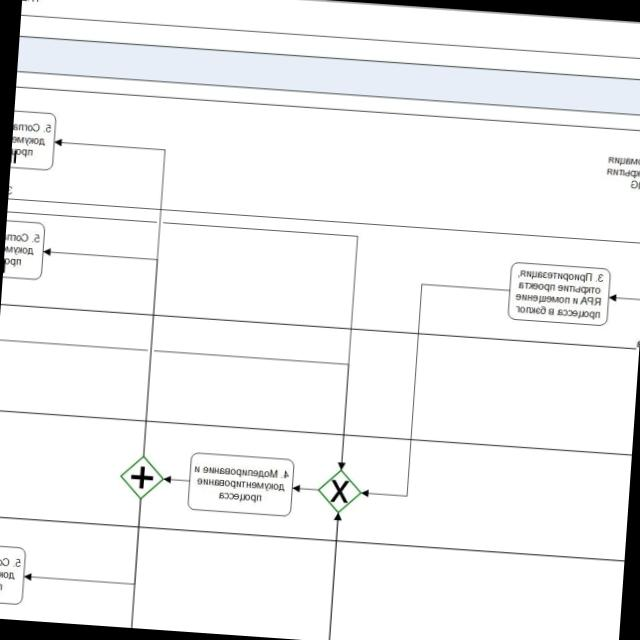arrow: (33, 136, 169, 455), (359, 277, 508, 507), (30, 246, 162, 456), (23, 490, 144, 590), (163, 474, 190, 486), (292, 484, 319, 495)
diamond: (316, 468, 362, 515), (118, 454, 164, 500)
rectangle: (187, 452, 295, 517), (507, 261, 611, 326)
